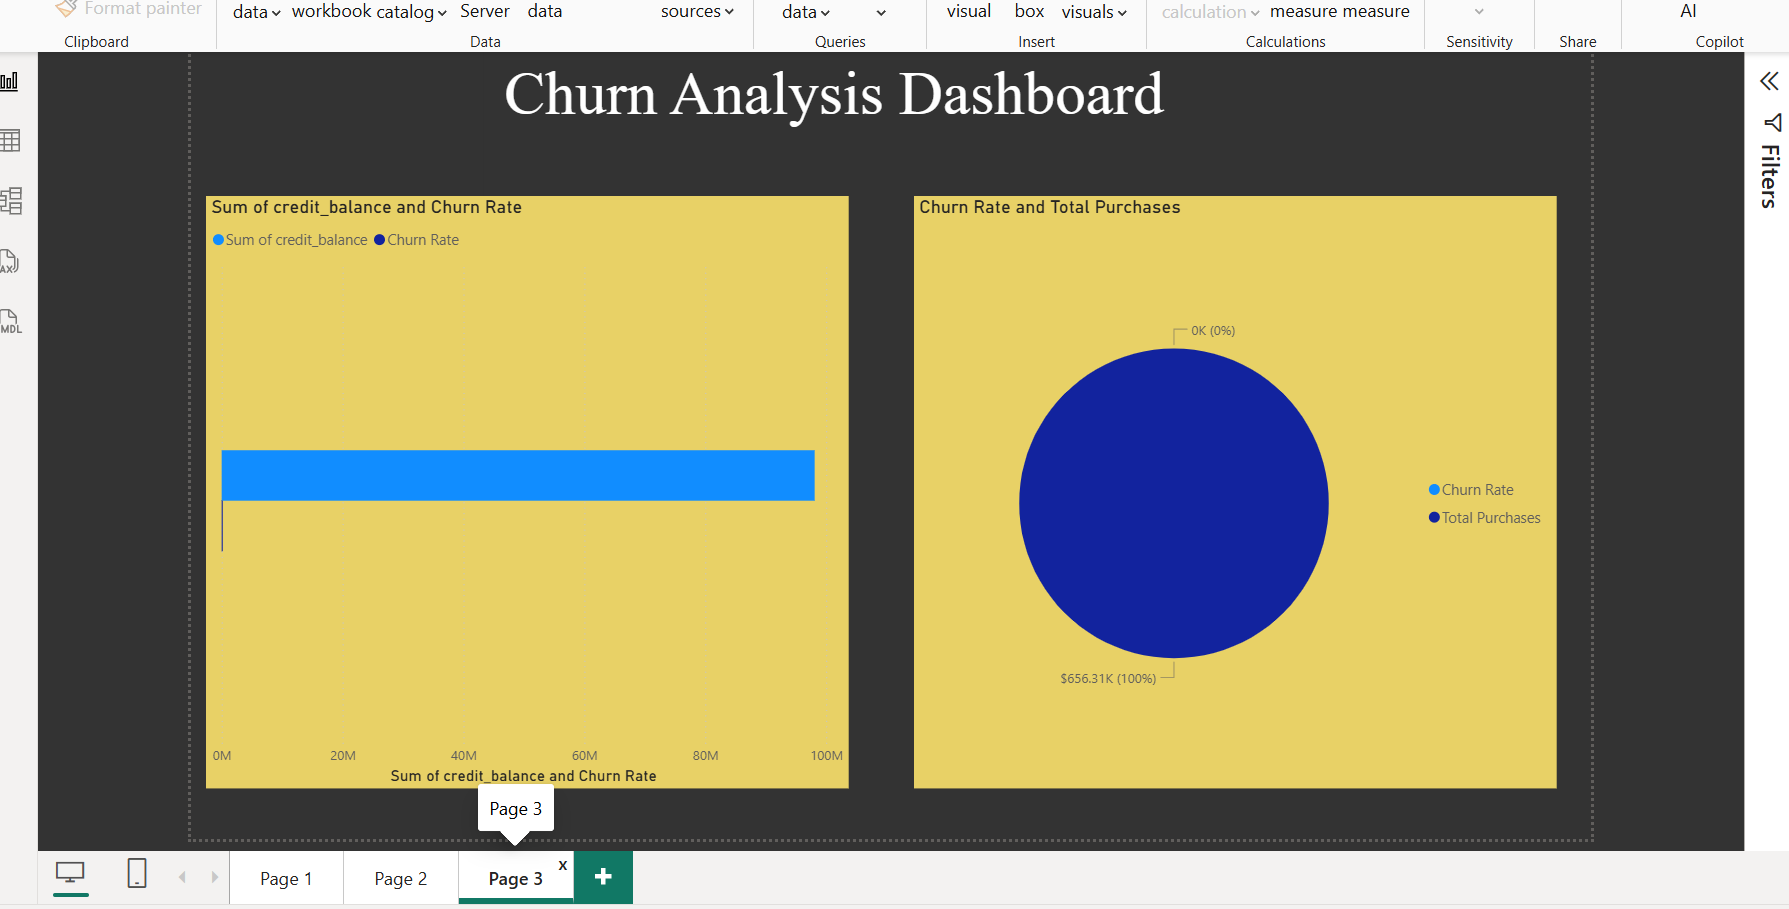

This screenshot's page, from the dashboard's own definition file:
{"tool":"powerbi","page":{"name":"Page 3","canvas":[1280,720],"ordinal":2},"visuals":[{"type":"clusteredBarChart","fields":{"Y":["Sum(customer.credit_balance)","customer.Churn Rate"]},"box":[13.9,131.1,588,542.3],"z":0},{"type":"pieChart","fields":{"Y":["customer.Churn Rate","customer.Total Purchases"]},"box":[661.5,131.1,588,542.3],"z":1000},{"type":"textbox","box":[268.2,0,711.2,131.1],"z":2000}]}

Visuals, with their boxes on the page's 1280x720 design canvas (x1, y1, x2, y2). These are canvas units, not pixel positions in the 1789x909 screenshot, which may show the page scaled, cropped or inside an application window:
clusteredBarChart - Sum(customer.credit_balance) x customer.Churn Rate: select_region(14, 131, 602, 673)
pieChart - customer.Churn Rate x customer.Total Purchases: select_region(662, 131, 1250, 673)
textbox: select_region(268, 0, 979, 131)
